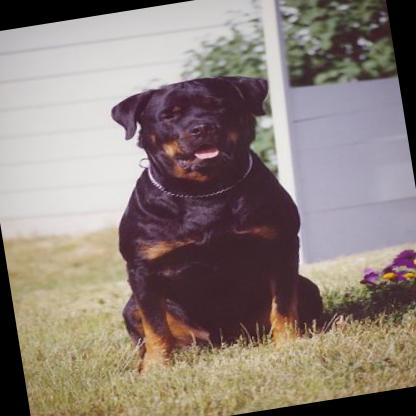Rottweiler: (86, 61, 332, 368)
